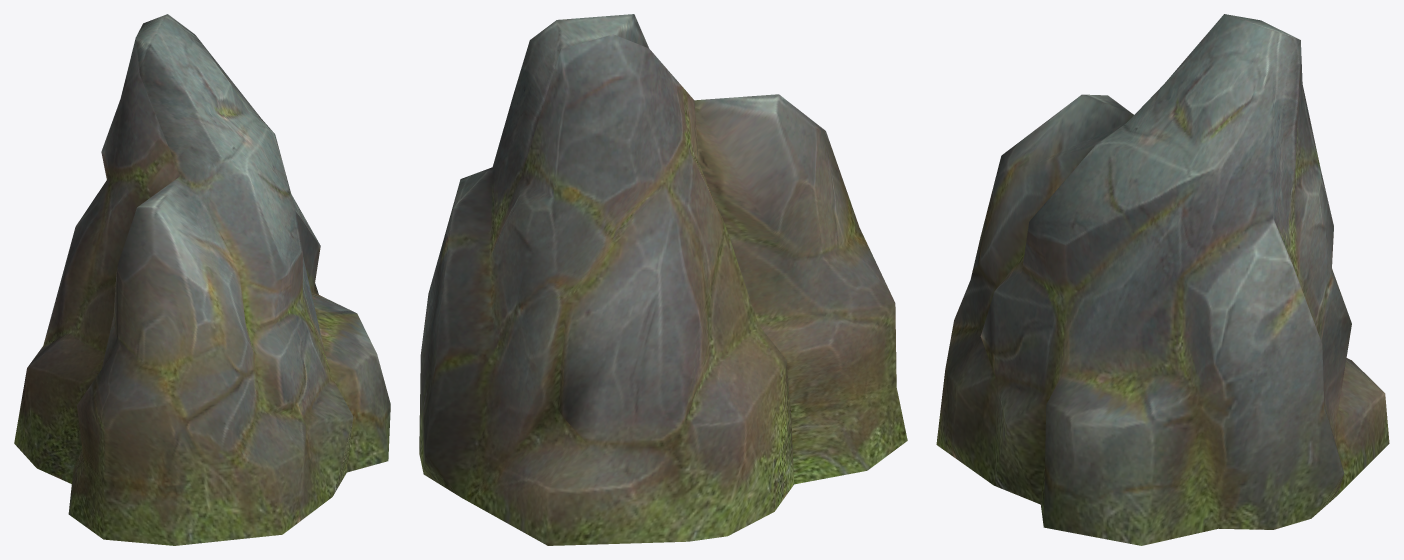
The model's file is wlf_shitou02_w.FBX.
3 views of the same model, side by side, from view 1: azimuth 30°, elevation 25°; view 2: azimuth 150°, elevation 25°; view 3: azimuth 270°, elevation 25° (orthographic). The views are drawn at different scales.
Parts seen in each view (by area): view 1: wlf_shitou02_w; view 2: wlf_shitou02_w; view 3: wlf_shitou02_w.
Boxes of the visible parts, x1,y1,x2,y2 form: wlf_shitou02_w: (14, 14, 390, 545); wlf_shitou02_w: (419, 14, 907, 545); wlf_shitou02_w: (936, 14, 1389, 545).
Size of the model in its own units: 79.23 by 91.26 by 86.32.
